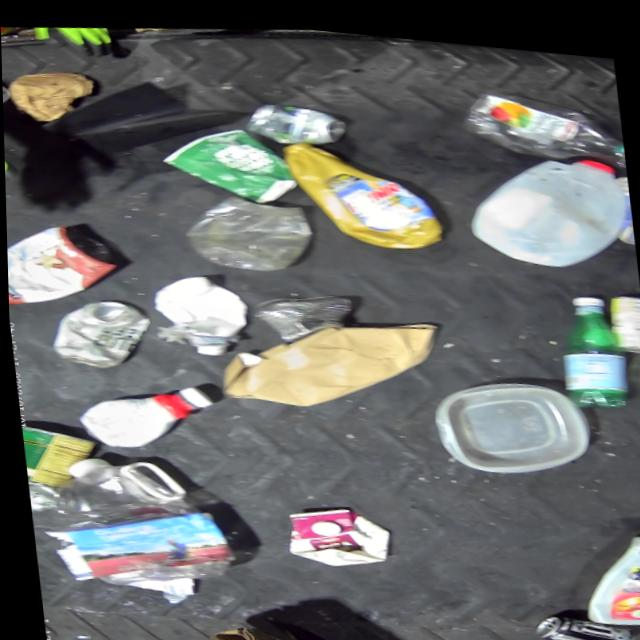can: (43, 295, 157, 383), (245, 272, 368, 350), (241, 89, 361, 146), (512, 594, 637, 640)
milk_jug: (59, 440, 239, 595), (459, 136, 631, 269)
non_white_jug: (272, 125, 436, 259), (5, 212, 124, 325)
plastic_bottle: (547, 276, 632, 406)
